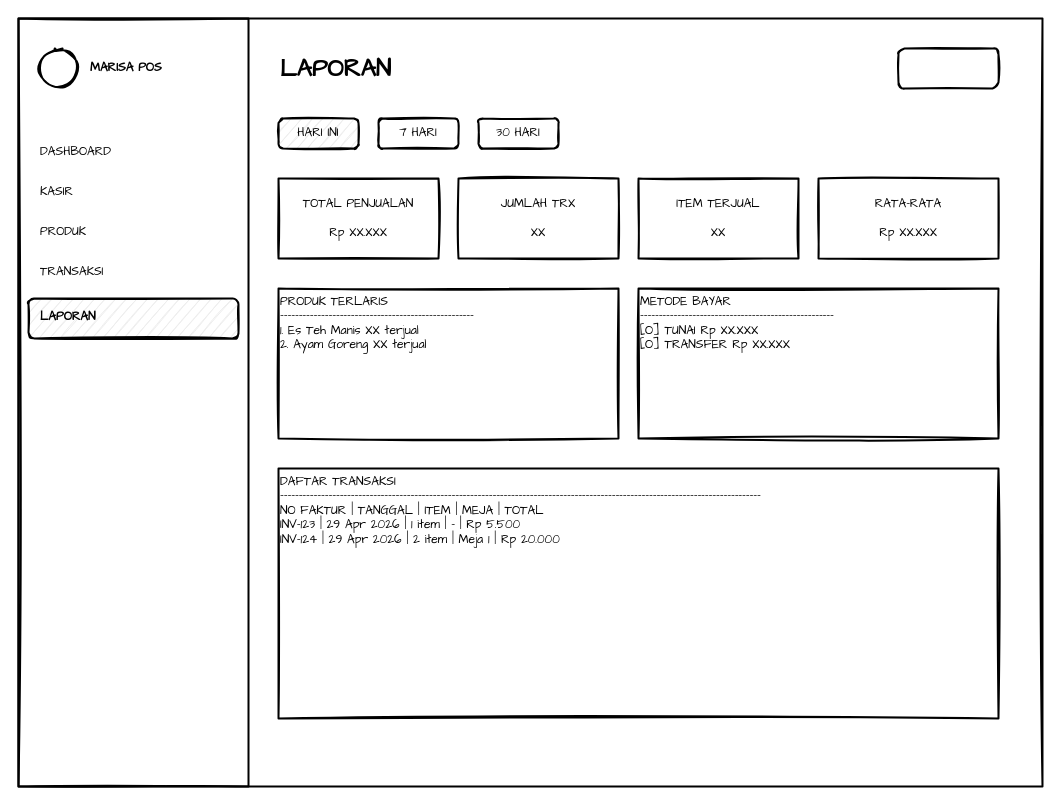
The diagram is 1060 pixels wide and 804 high, and some of its shapes have lost their labels. The centre of each missing label's shape, as x and y in pixels:
EXPORT: the point at 948,68
LOGO: the point at 58,68
